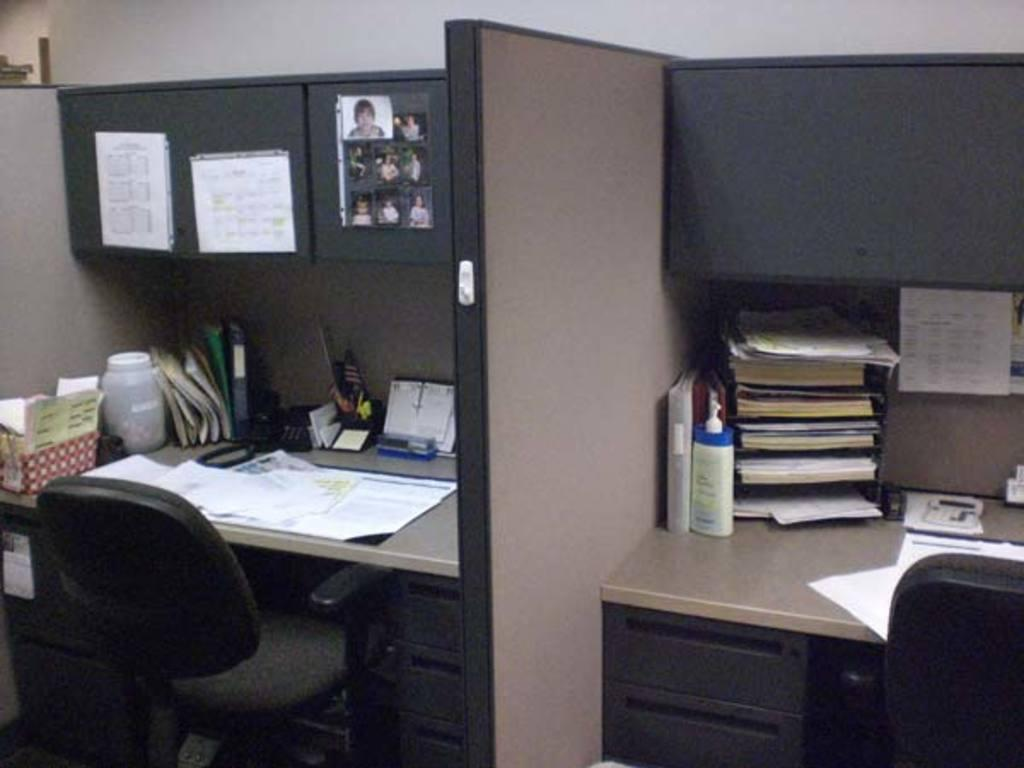Chair: (35, 473, 405, 766), (880, 551, 1023, 767)
Computer-monitor: (660, 50, 1022, 293)
